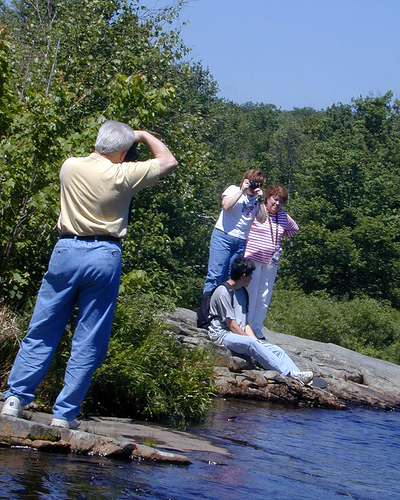without_mask: (231, 263, 256, 290), (264, 188, 288, 215)
